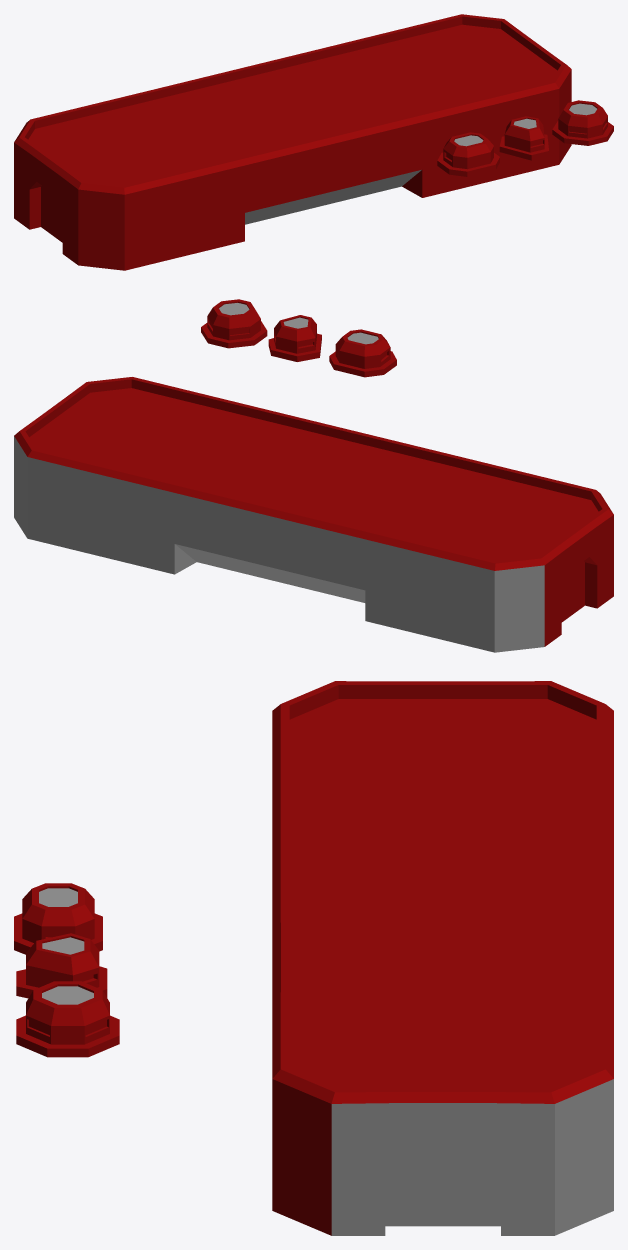
File: M_TrophyRoom.FBX
The picture shows the model from 3 angles, top to bottom: view 1: azimuth 30°, elevation 25°; view 2: azimuth 150°, elevation 25°; view 3: azimuth 270°, elevation 25°; orthographic projection. The views are drawn at different scales.
Visible parts, largest first — view 1: M_Collectible_Table, M_Trophy_Collectible_Quatro, M_Trophy_Collectible_Duo, M_Trophy_Collectible_Trio; view 2: M_Collectible_Table, M_Trophy_Collectible_Quatro, M_Trophy_Collectible_Duo, M_Trophy_Collectible_Trio; view 3: M_Collectible_Table, M_Trophy_Collectible_Quatro, M_Trophy_Collectible_Duo, M_Trophy_Collectible_Trio.
Part boxes in pixels (x1=…): M_Collectible_Table: x1=14, y1=14, x2=571, y2=270; M_Trophy_Collectible_Quatro: x1=552, y1=100, x2=613, y2=145; M_Trophy_Collectible_Duo: x1=437, y1=132, x2=499, y2=176; M_Trophy_Collectible_Trio: x1=499, y1=116, x2=548, y2=160; M_Collectible_Table: x1=14, y1=377, x2=613, y2=652; M_Trophy_Collectible_Quatro: x1=201, y1=299, x2=267, y2=348; M_Trophy_Collectible_Duo: x1=329, y1=329, x2=396, y2=377; M_Trophy_Collectible_Trio: x1=268, y1=315, x2=321, y2=361; M_Collectible_Table: x1=272, y1=681, x2=613, y2=1235; M_Trophy_Collectible_Quatro: x1=16, y1=981, x2=119, y2=1057; M_Trophy_Collectible_Duo: x1=14, y1=883, x2=102, y2=954; M_Trophy_Collectible_Trio: x1=16, y1=933, x2=107, y2=998.
Bounding box in the file's own units: 540 × 327 × 113.
